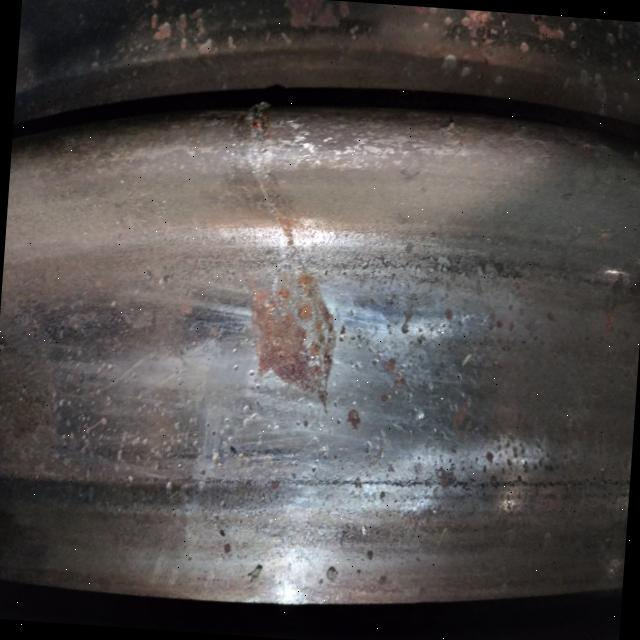Contact_Fatigue_Cracks: (356, 245, 557, 300)
Out_Of_Roundness: (235, 83, 294, 214)
